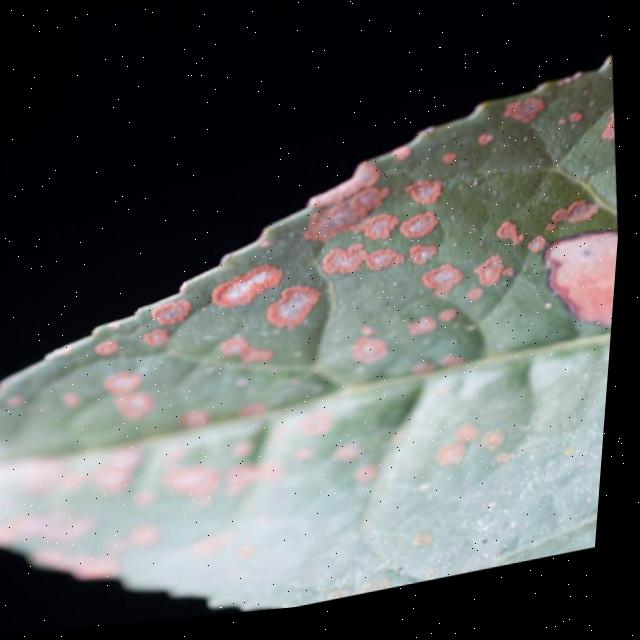Tea red rust: (38, 86, 617, 585)
